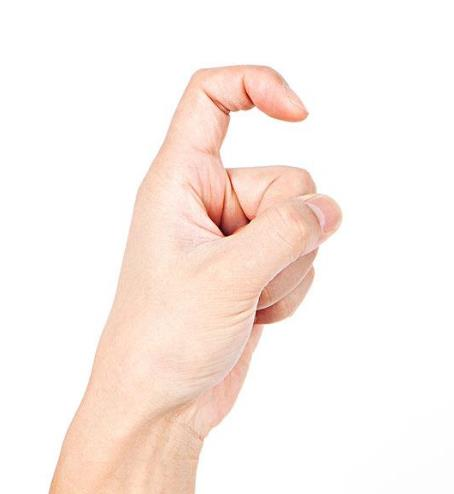anticlockwise: (89, 61, 354, 395)
